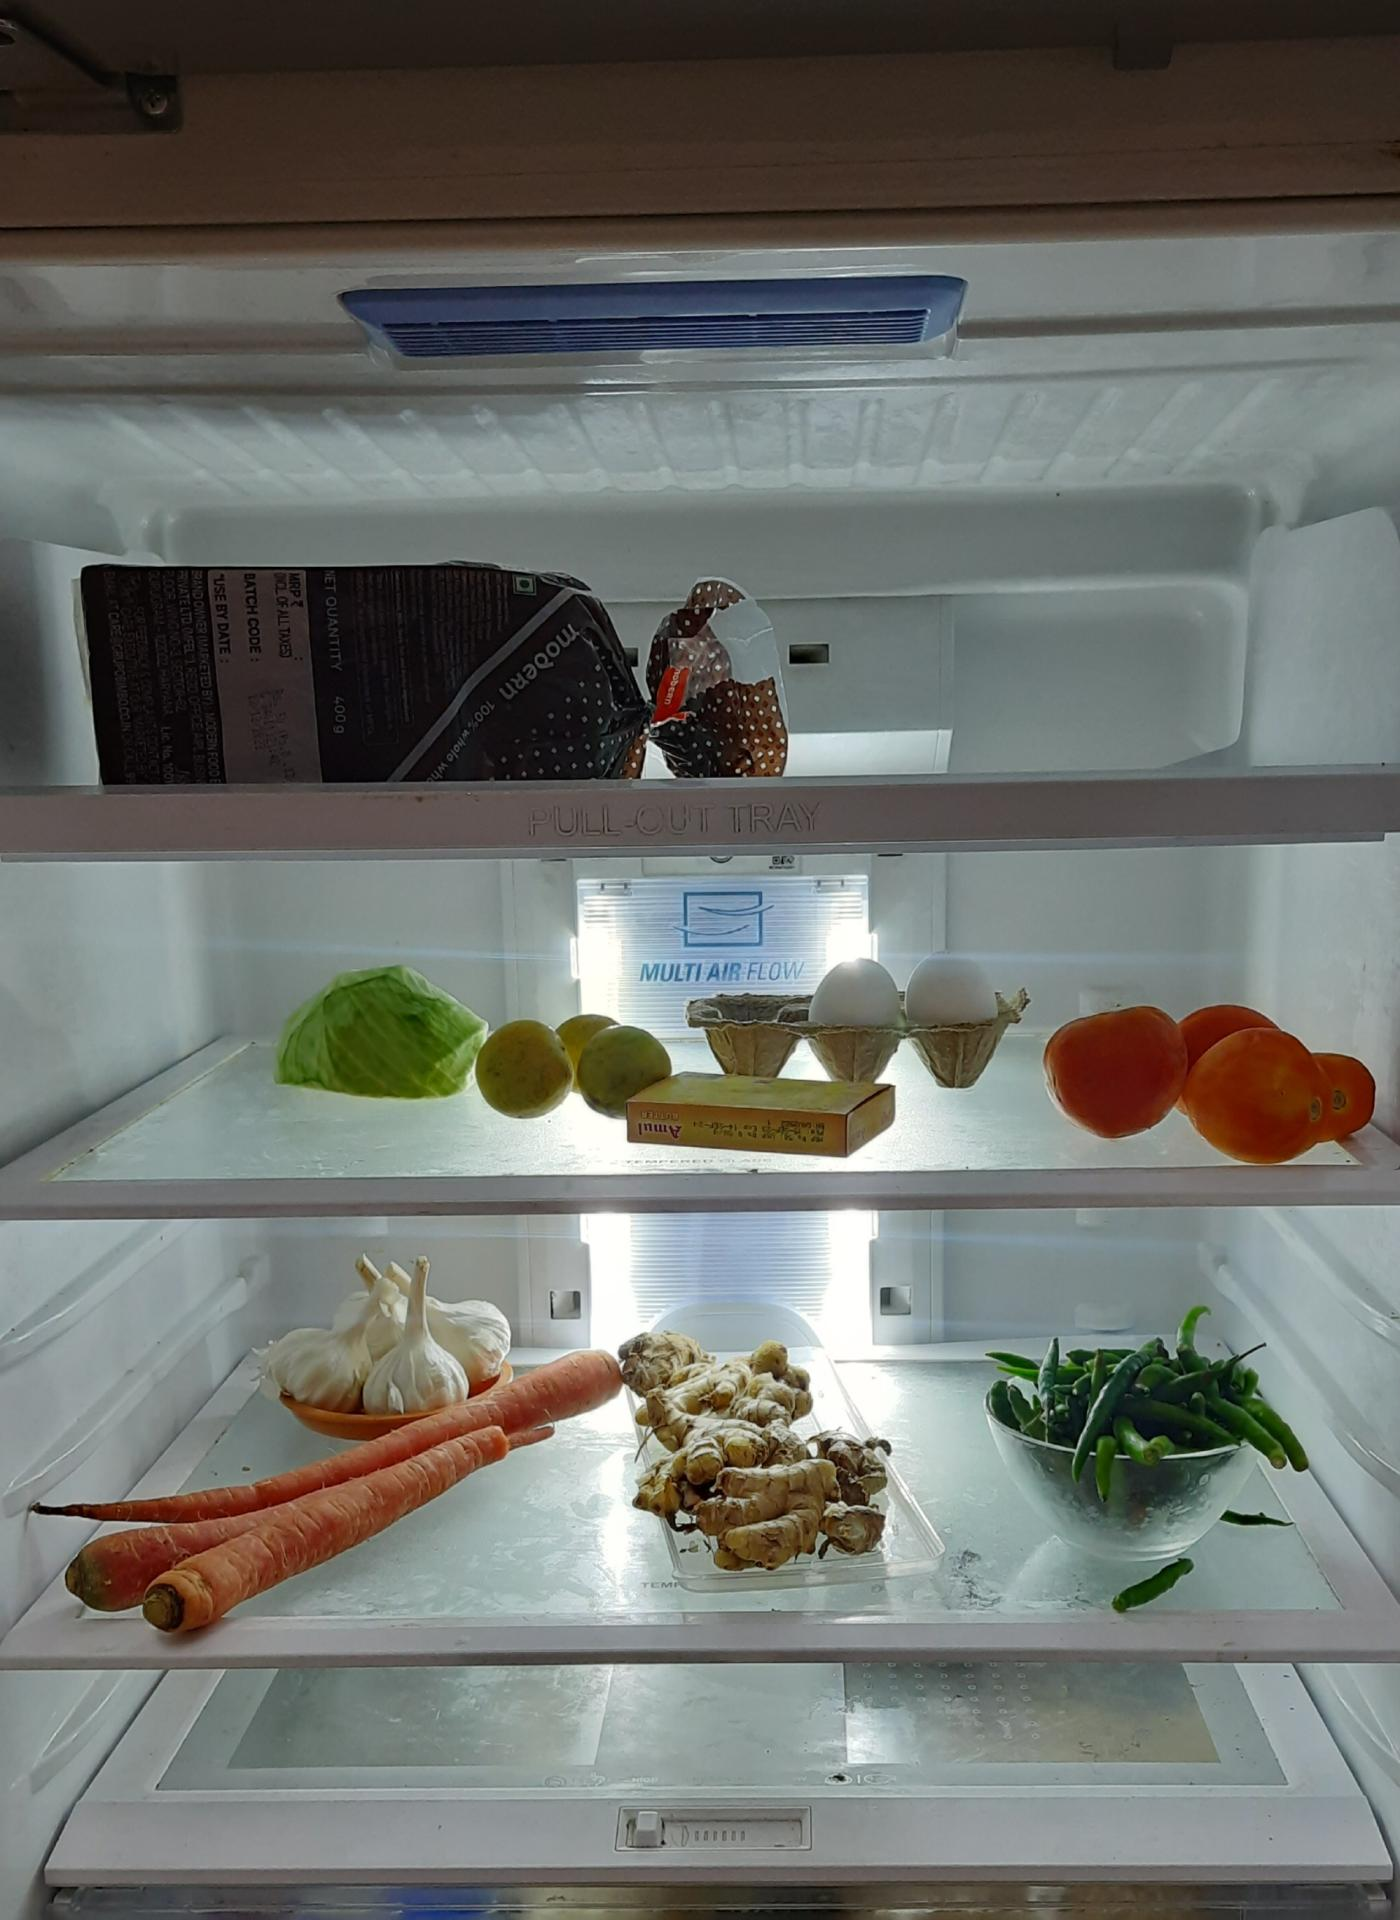bread: (82, 559, 801, 781)
butter: (623, 1075, 901, 1154)
cabbage: (279, 972, 494, 1105)
carrots: (49, 1337, 611, 1634)
chillies: (997, 1318, 1306, 1497)
egg: (810, 954, 1003, 1042)
garlic: (273, 1248, 510, 1412)
ginger: (629, 1357, 899, 1573)
lemon: (479, 1012, 680, 1121)
tomato: (1048, 1000, 1385, 1155)
